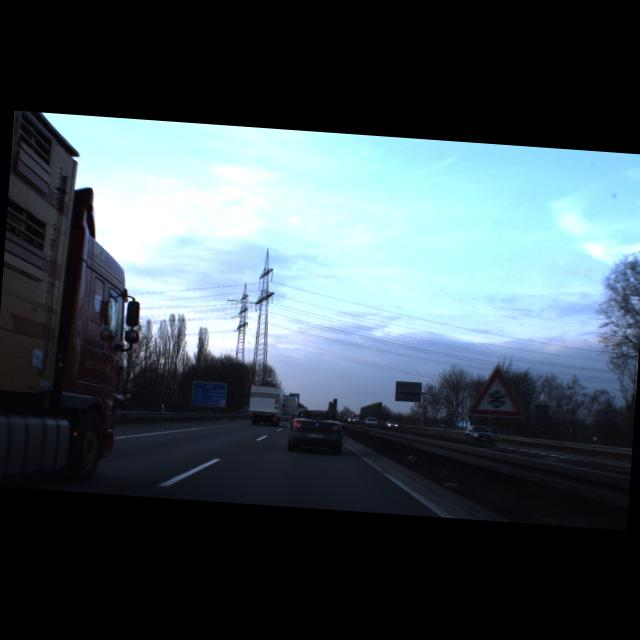danger: (467, 363, 528, 418)
